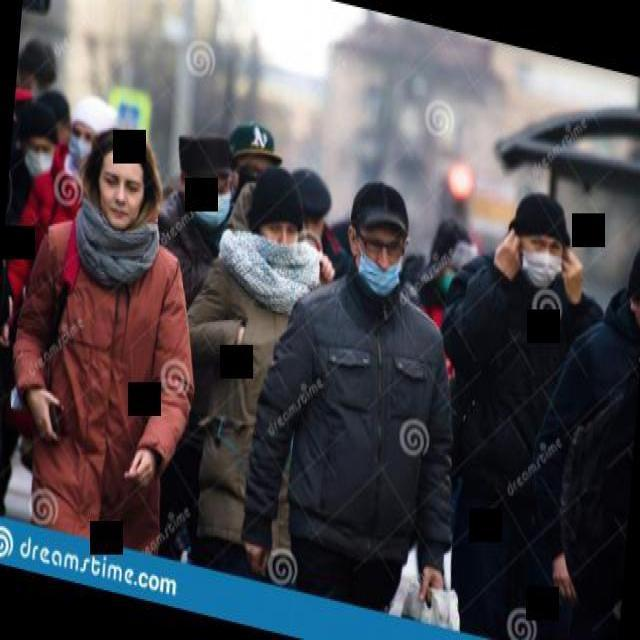hairnet: (355, 247, 404, 298)
